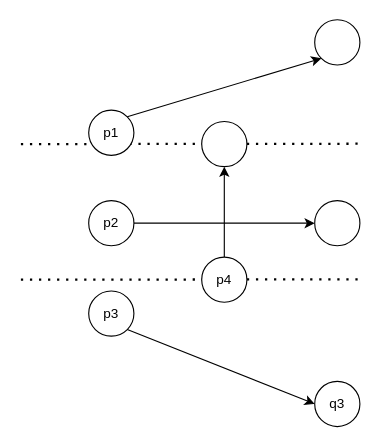
Image size: 381x446. Some labels were removed from this diagram. Each missing label, with the box of its shape:
q1: (314, 19, 360, 65)
q2: (314, 199, 360, 246)
q5: (201, 120, 247, 167)
